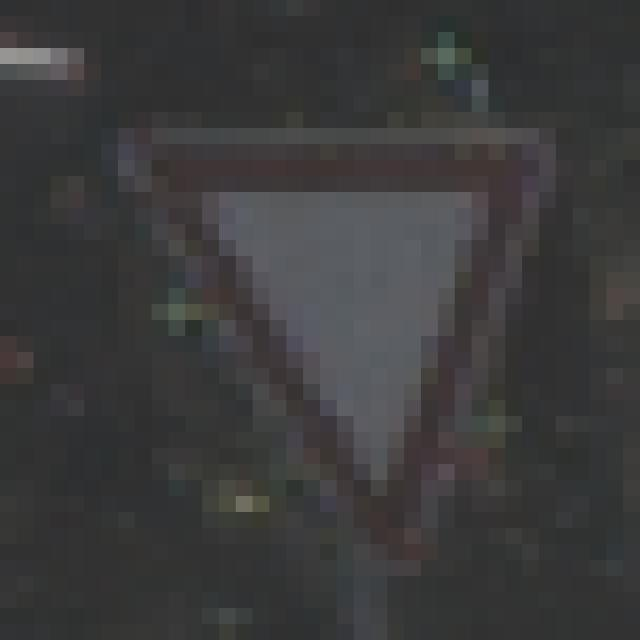Give Way: (102, 81, 557, 561)
